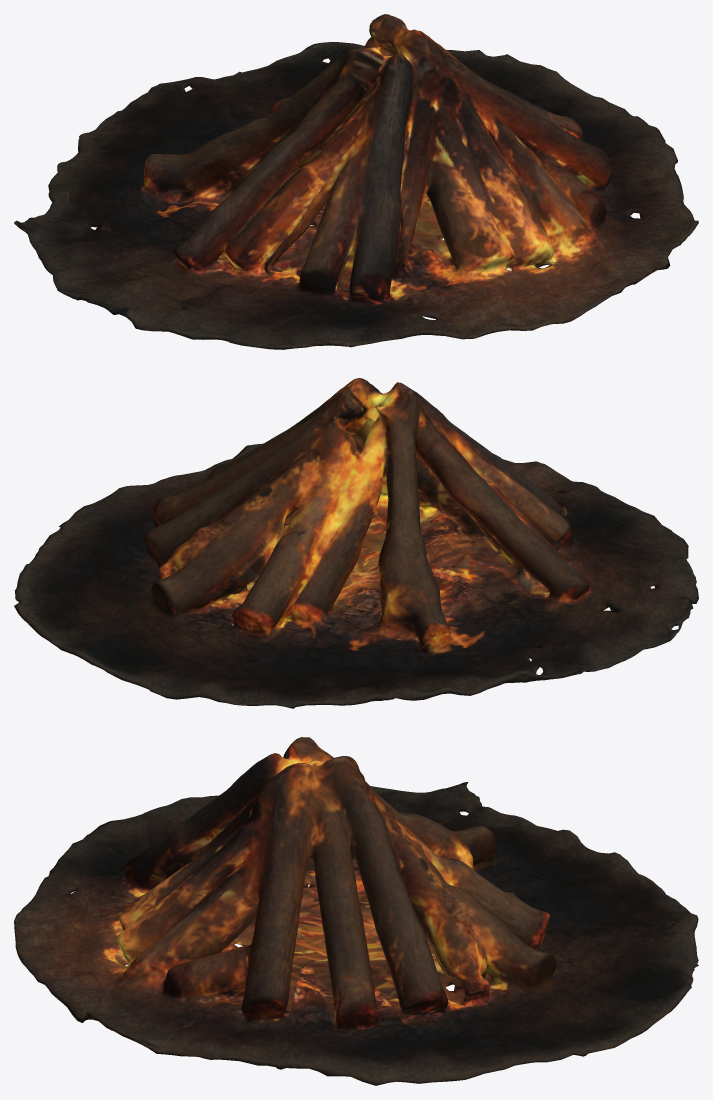
Rendered from create_bonfire.glb.
The picture shows the model from 3 angles, top to bottom: view 1: azimuth 30°, elevation 25°; view 2: azimuth 150°, elevation 25°; view 3: azimuth 270°, elevation 25°; orthographic projection. The views are drawn at different scales.
Size of the model in its own units: 1.99 by 0.6182 by 1.91.
Materials: 1 (1 with a texture image).
